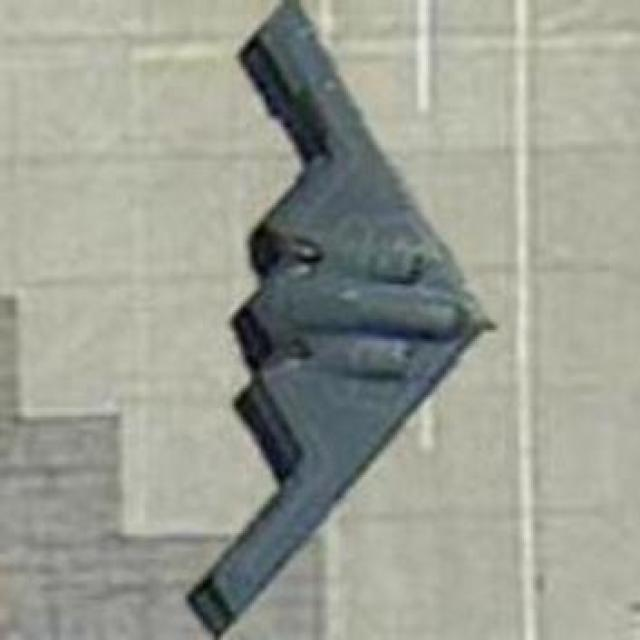B-2_TopDown: (180, 0, 498, 638)
